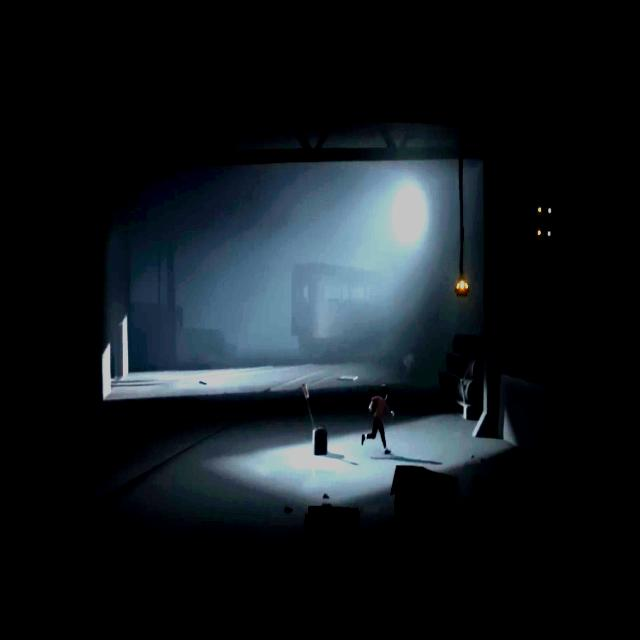boy: (362, 383, 394, 454)
interactible: (302, 382, 328, 456), (454, 279, 469, 295)
